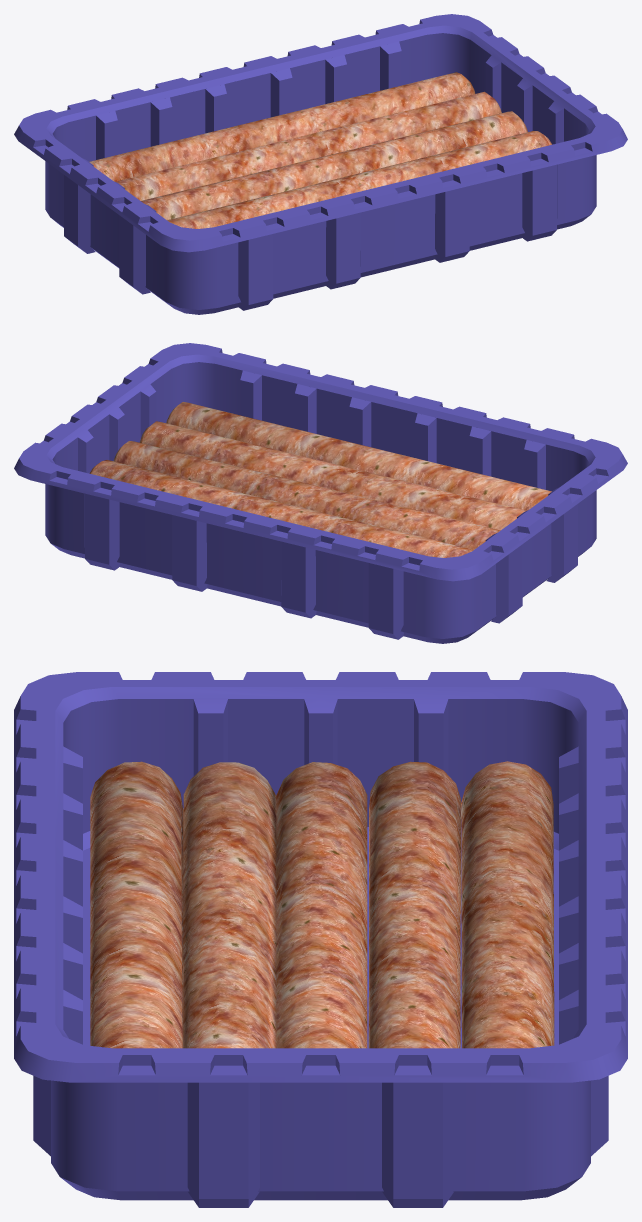
File: Chevapchichi.glb
The picture shows the model from 3 angles, top to bottom: view 1: azimuth 30°, elevation 25°; view 2: azimuth 150°, elevation 25°; view 3: azimuth 270°, elevation 25°; orthographic projection. The views are drawn at different scales.
Visible parts, largest first — view 1: Chevapchichi Tray, Chevapchichi; view 2: Chevapchichi Tray, Chevapchichi; view 3: Chevapchichi Tray, Chevapchichi.
Boxes of the visible parts, left/top/right/bottom form: Chevapchichi Tray: left=14, top=14, right=627, bottom=314; Chevapchichi: left=89, top=72, right=551, bottom=228; Chevapchichi Tray: left=14, top=343, right=627, bottom=643; Chevapchichi: left=89, top=402, right=551, bottom=557; Chevapchichi Tray: left=14, top=672, right=627, bottom=1207; Chevapchichi: left=90, top=761, right=554, bottom=1048.
Bounding box in the file's own units: 0.2476 × 0.046 × 0.1619.
2 materials, 2 textured.
